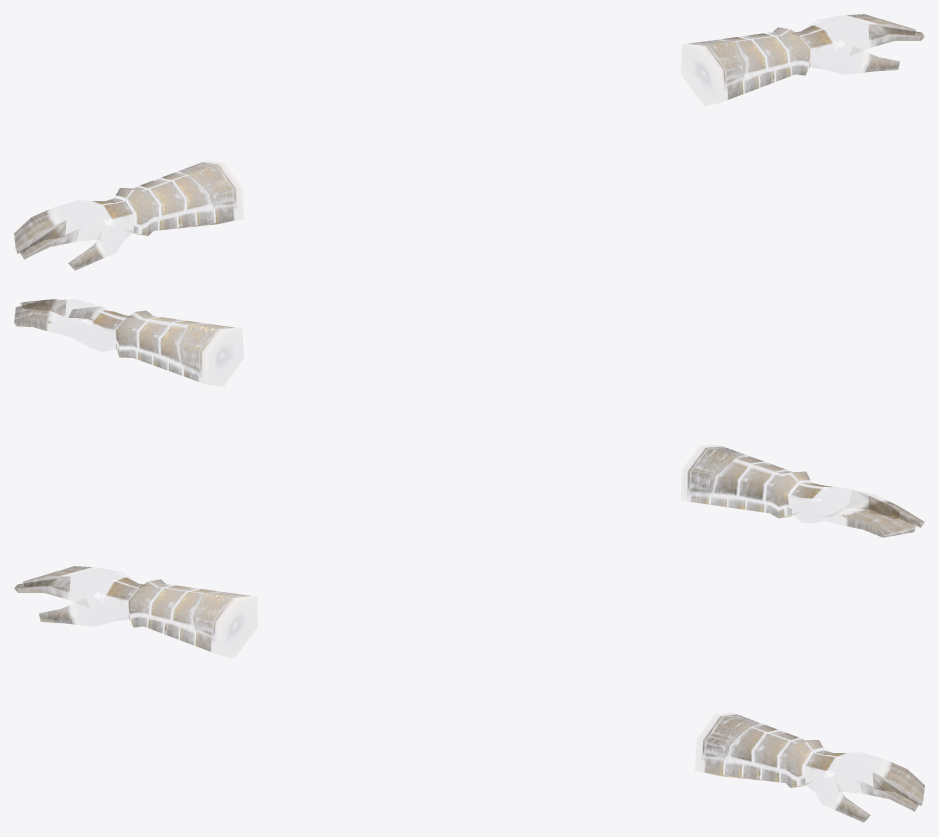
Rendered from heavy_03_aa.glb.
The picture shows the model from 3 angles, top to bottom: view 1: azimuth 30°, elevation 25°; view 2: azimuth 150°, elevation 25°; view 3: azimuth 330°, elevation 25°; orthographic projection.
Parts seen in each view (by area): view 1: heavy_03_aa; view 2: heavy_03_aa; view 3: heavy_03_aa.
Boxes of the visible parts, x1,y1,x2,y2 form: heavy_03_aa: (14,14,924,270); heavy_03_aa: (14,299,924,537); heavy_03_aa: (14,566,924,822).
Size of the model in its own units: 1.83 by 0.1147 by 0.1506.
Materials: 1 (1 with a texture image).
